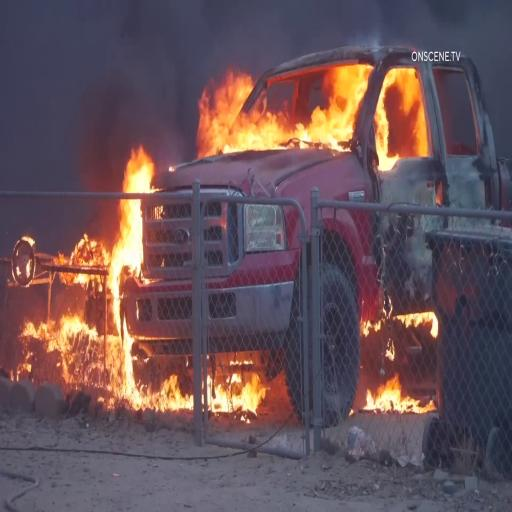fire: (106, 167, 156, 410), (257, 74, 353, 163), (370, 72, 429, 160), (192, 77, 252, 157)
smoke: (9, 0, 187, 109)
